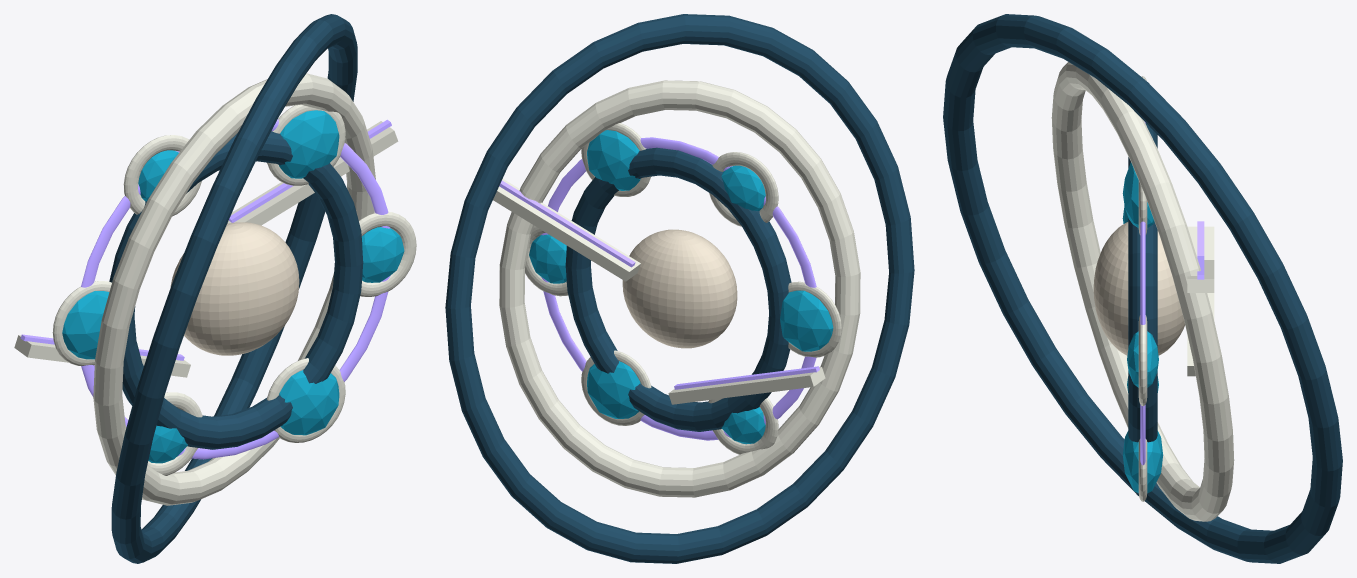
File: landmark-high.glb
3 renders of one model, left to right at view 1: azimuth 30°, elevation 25°; view 2: azimuth 150°, elevation 25°; view 3: azimuth 270°, elevation 25°, orthographic. The views are drawn at different scales.
Parts seen in each view (by area): view 1: accent_static, porcelain_static, glass_static, hull_static, motion-lens-ring, trim_static; view 2: accent_static, porcelain_static, glass_static, hull_static, motion-lens-ring, trim_static; view 3: accent_static, porcelain_static, hull_static, glass_static, motion-lens-ring.
Boxes of the visible parts, x1,y1,x2,y2 form: accent_static: (109, 14, 363, 563); porcelain_static: (14, 73, 416, 505); glass_static: (62, 110, 404, 463); hull_static: (170, 222, 299, 355); motion-lens-ring: (81, 119, 390, 459); trim_static: (20, 119, 391, 360); accent_static: (445, 14, 914, 563); porcelain_static: (493, 80, 860, 497); glass_static: (529, 130, 833, 444); hull_static: (622, 229, 737, 348); motion-lens-ring: (541, 137, 816, 440); trim_static: (499, 180, 819, 389); accent_static: (943, 14, 1342, 563); porcelain_static: (1051, 62, 1234, 521); hull_static: (1093, 222, 1184, 355); glass_static: (1122, 162, 1163, 493); motion-lens-ring: (1140, 121, 1145, 465).
Bounding box in the file's own units: 1115 × 1564 × 1022.
